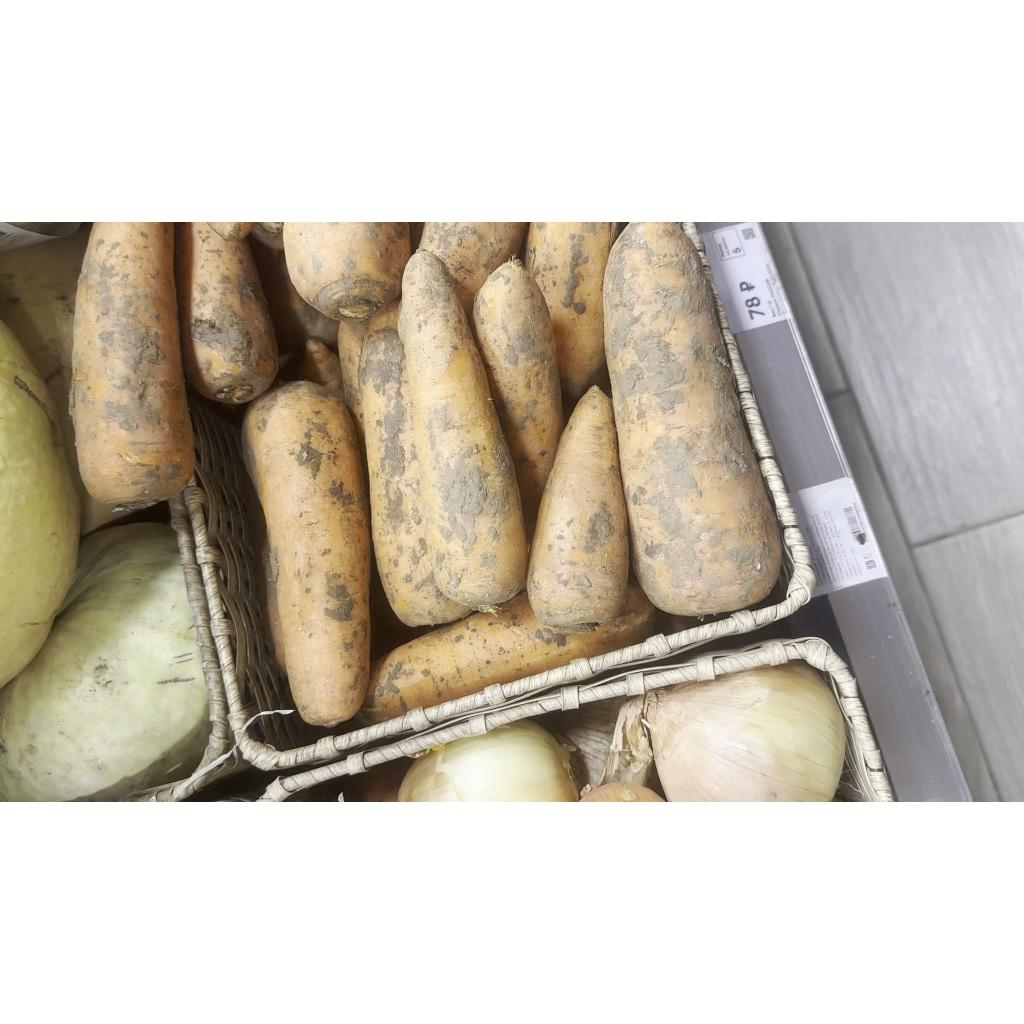carrot: (604, 222, 782, 616), (398, 248, 528, 610), (242, 380, 370, 726), (362, 588, 654, 722), (358, 300, 472, 626), (72, 222, 194, 510), (472, 256, 564, 542), (528, 386, 628, 630), (176, 222, 278, 404), (526, 222, 618, 411), (284, 222, 410, 320), (420, 222, 526, 312)
